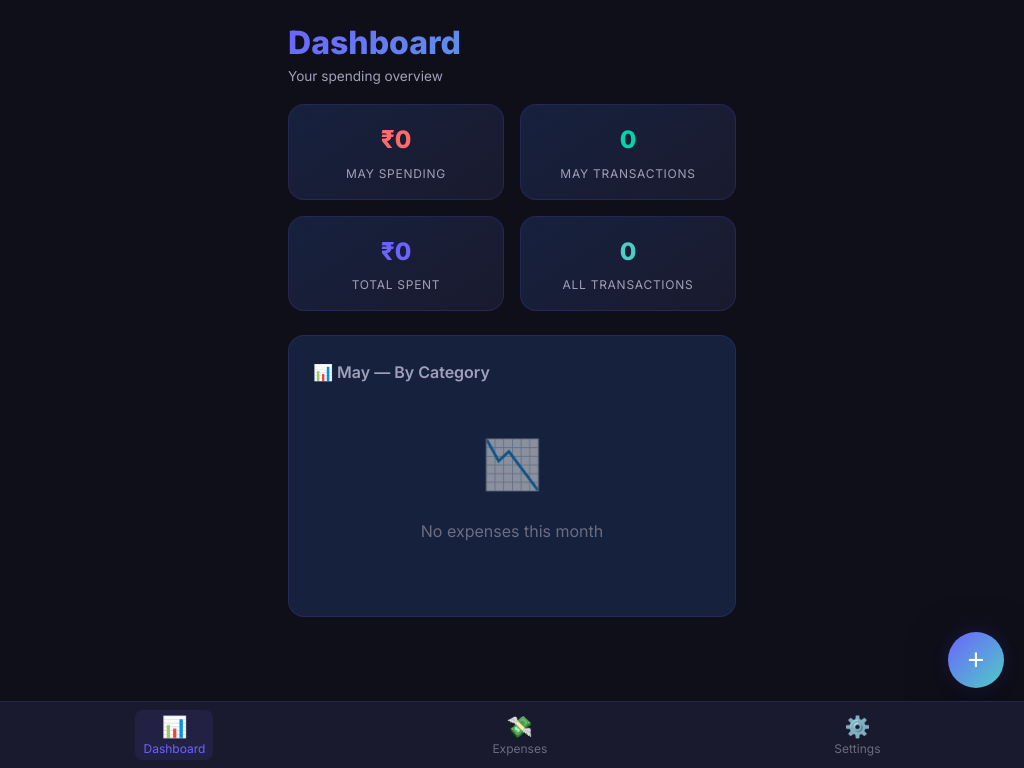
Test: Add Expense — Integration › navigates to Expenses view
Expected: the text "Dashboard" is shown, [144,741,205,756]
What coordinates should you click on to do the following:
click the text "Expenses"
I would click on:
 (520, 748)
Its box is [492,741,547,756].
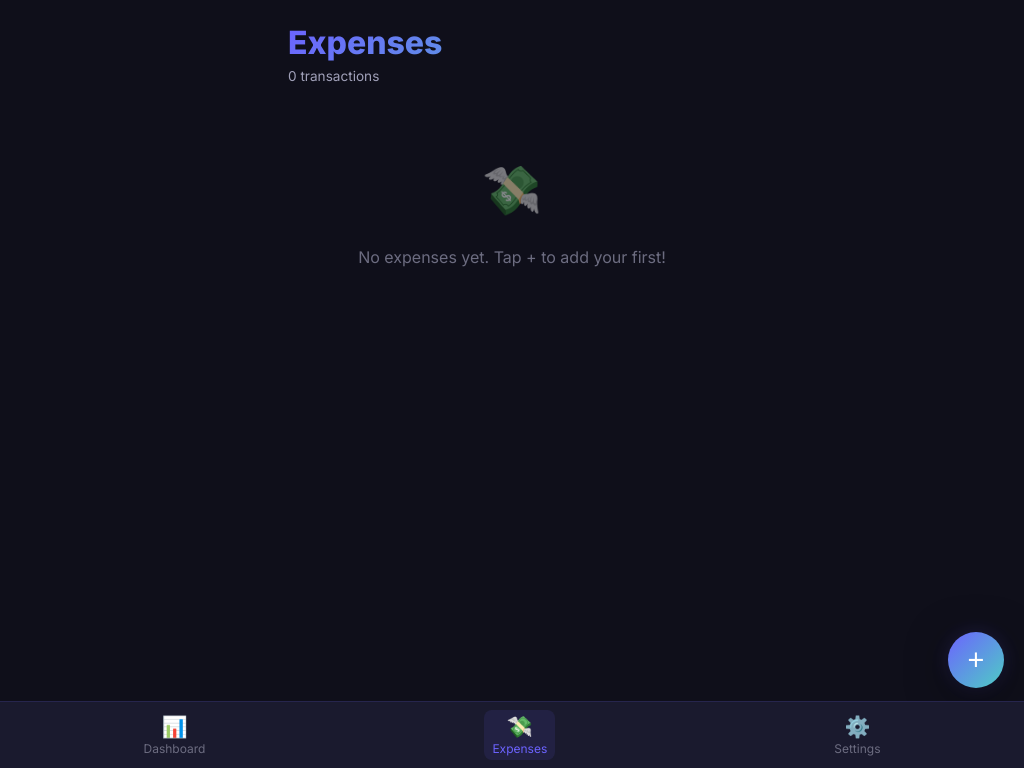
Expected: the text "No expenses yet. Tap + to add your first!" is shown, [358,247,666,267]
